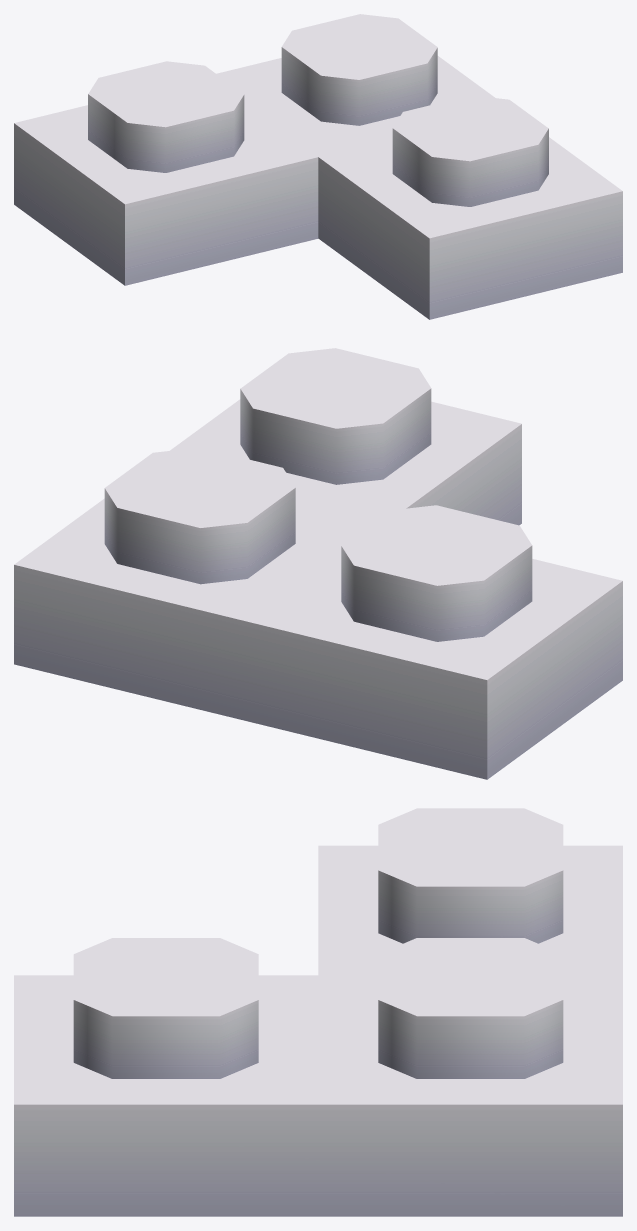
The model's file is bevel-lq-plate-corner.glb.
3 renders of one model, top to bottom at view 1: azimuth 30°, elevation 25°; view 2: azimuth 150°, elevation 25°; view 3: azimuth 270°, elevation 25°, orthographic. The views are drawn at different scales.
Parts seen in each view (by area): view 1: bevel-lq-plate-corner; view 2: bevel-lq-plate-corner; view 3: bevel-lq-plate-corner.
Boxes of the visible parts, bbox=[...] form: bevel-lq-plate-corner: bbox=[14, 14, 622, 319]; bevel-lq-plate-corner: bbox=[14, 348, 622, 779]; bevel-lq-plate-corner: bbox=[14, 808, 622, 1216].
Bounding box in the file's own units: 0.159 × 0.05 × 0.158.
1 material, 1 textured.
